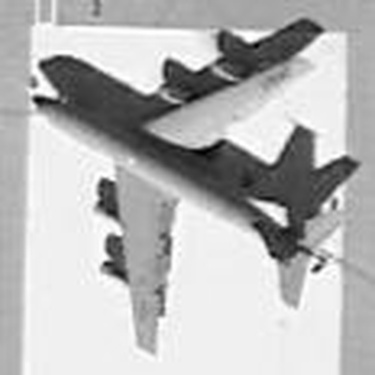airplane: (21, 18, 353, 360)
